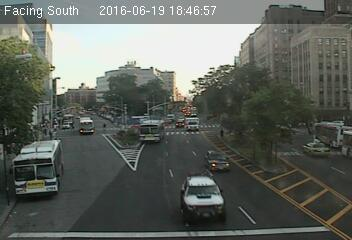pos: (218, 127, 227, 140)
